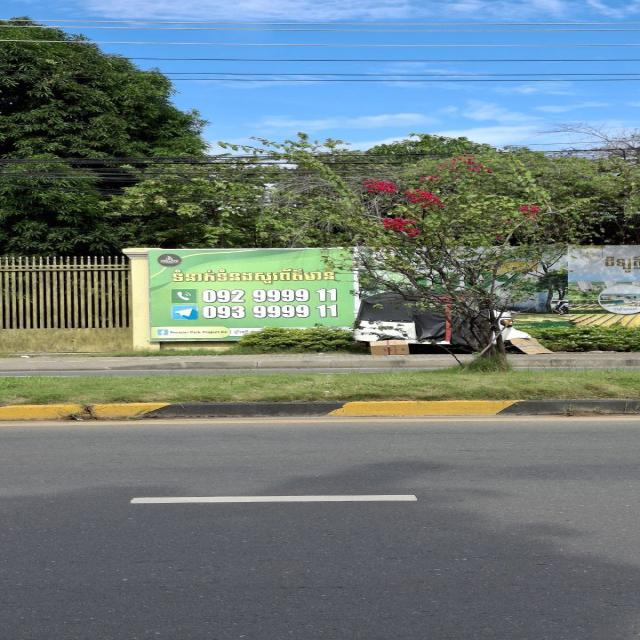Yolov11kh: (163, 263, 357, 287)
